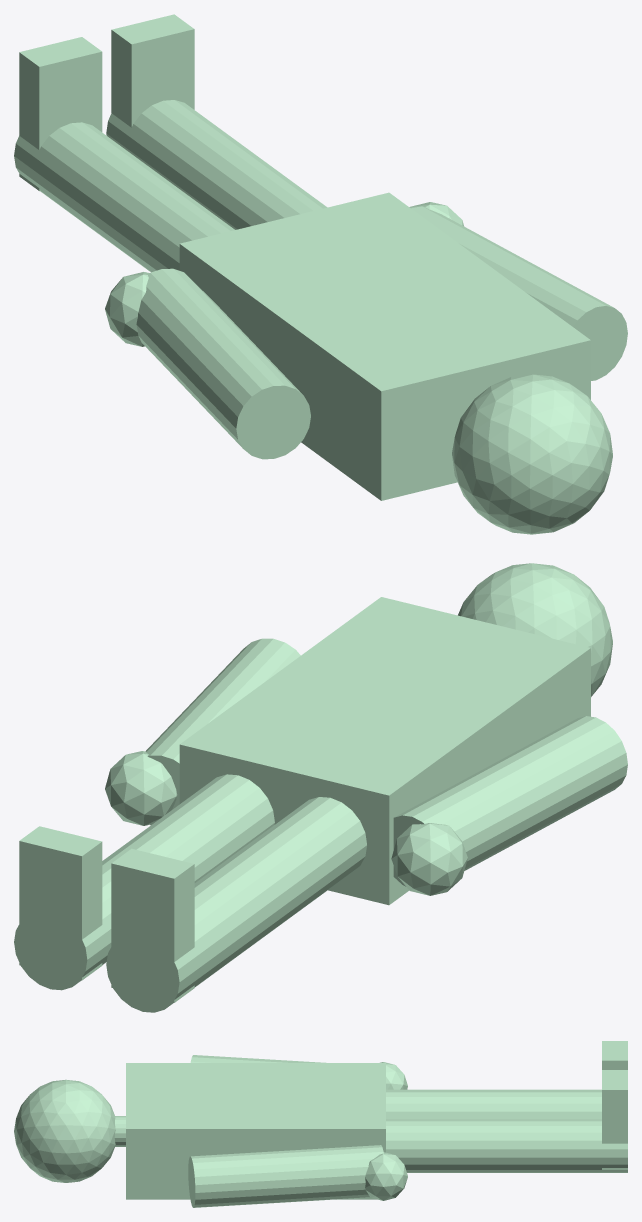
File: normal.glb
The picture shows the model from 3 angles, top to bottom: view 1: azimuth 30°, elevation 25°; view 2: azimuth 150°, elevation 25°; view 3: azimuth 270°, elevation 25°; orthographic projection. The views are drawn at different scales.
Parts seen in each view (by area): view 1: world; view 2: world; view 3: world.
Part boxes in pixels (x1,y1,x2,y2): world: (14, 14, 627, 534); world: (14, 563, 627, 1012); world: (14, 1041, 627, 1207).
Bounding box in the file's own units: 1.12 × 0.48 × 2.36.
